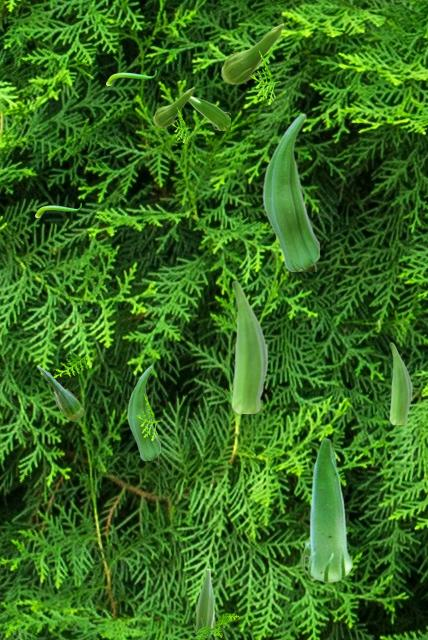okra: (262, 112, 318, 270), (301, 437, 352, 582), (231, 280, 267, 412), (221, 23, 283, 83), (127, 365, 159, 459), (37, 365, 82, 420), (180, 92, 229, 129), (389, 342, 411, 423), (153, 87, 193, 126), (193, 568, 214, 636), (106, 70, 155, 84), (35, 203, 80, 216)
